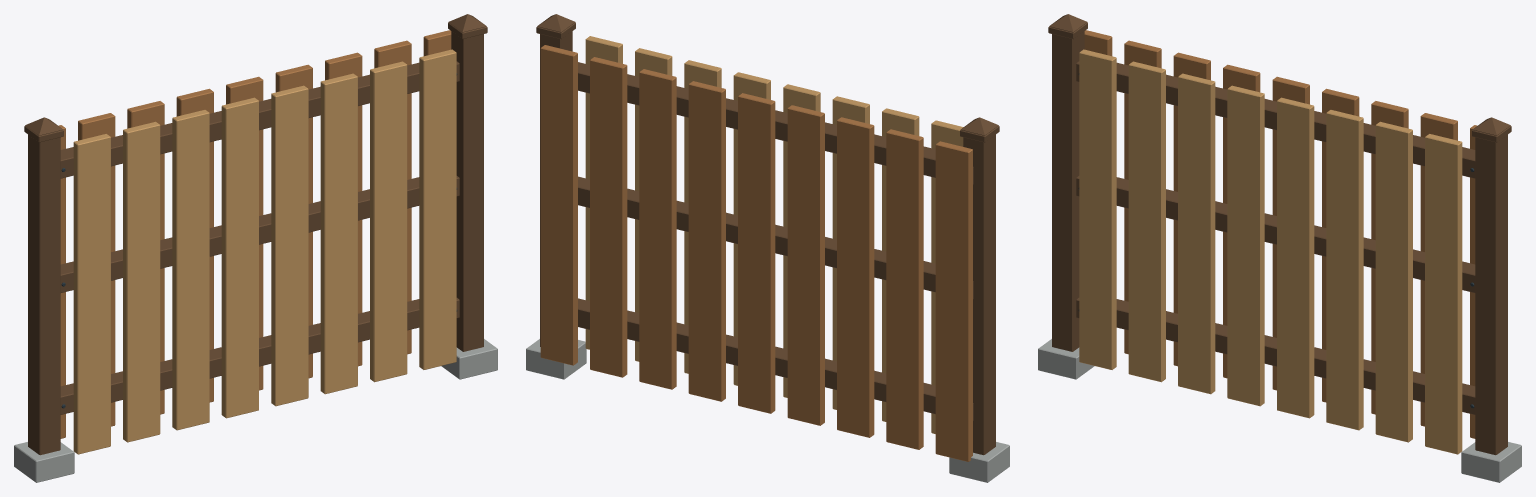
The model's file is b19_shadowbox_privacy_fence.glb.
3 views of the same model, side by side, from view 1: azimuth 30°, elevation 25°; view 2: azimuth 150°, elevation 25°; view 3: azimuth 330°, elevation 25° (orthographic).
Parts seen in each view (by area): view 1: b19_shadowbox_privacy_fence; view 2: b19_shadowbox_privacy_fence; view 3: b19_shadowbox_privacy_fence.
Boxes of the visible parts, x1=… form: b19_shadowbox_privacy_fence: x1=14, y1=14, x2=497, y2=482; b19_shadowbox_privacy_fence: x1=526, y1=14, x2=1009, y2=482; b19_shadowbox_privacy_fence: x1=1038, y1=14, x2=1521, y2=482.
Bounding box in the file's own units: 2.62 × 1.91 × 0.245.
